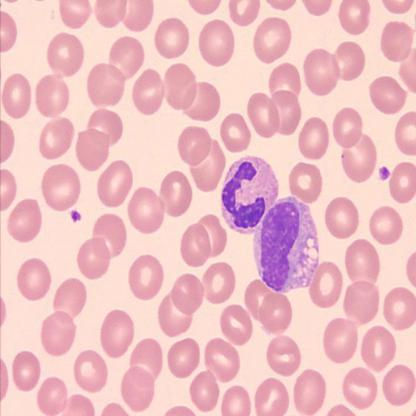Metamyelocyte: (252, 196, 322, 295)
